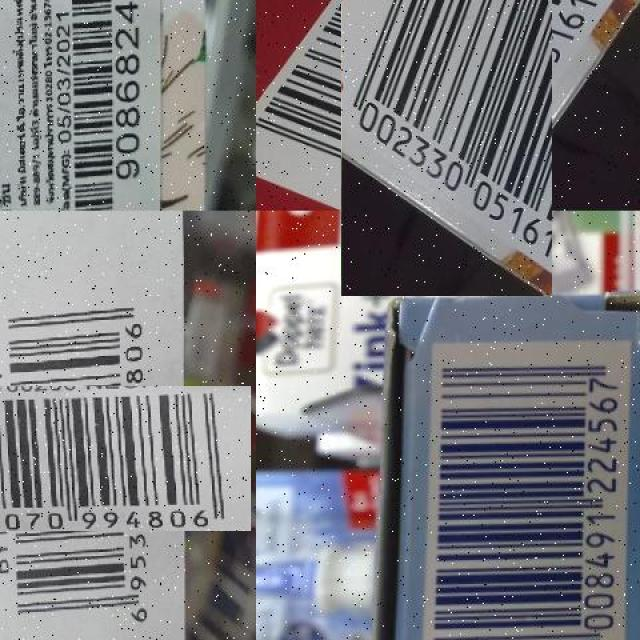Barcode: (299, 0, 595, 253), (420, 340, 635, 640), (0, 332, 200, 583), (69, 0, 139, 211)
